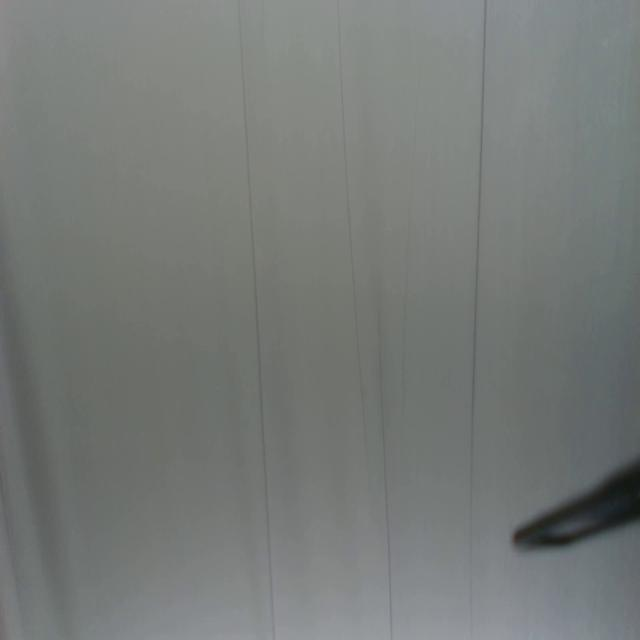crease: (235, 1, 277, 640), (466, 0, 491, 637), (336, 1, 368, 453), (375, 290, 394, 639)
